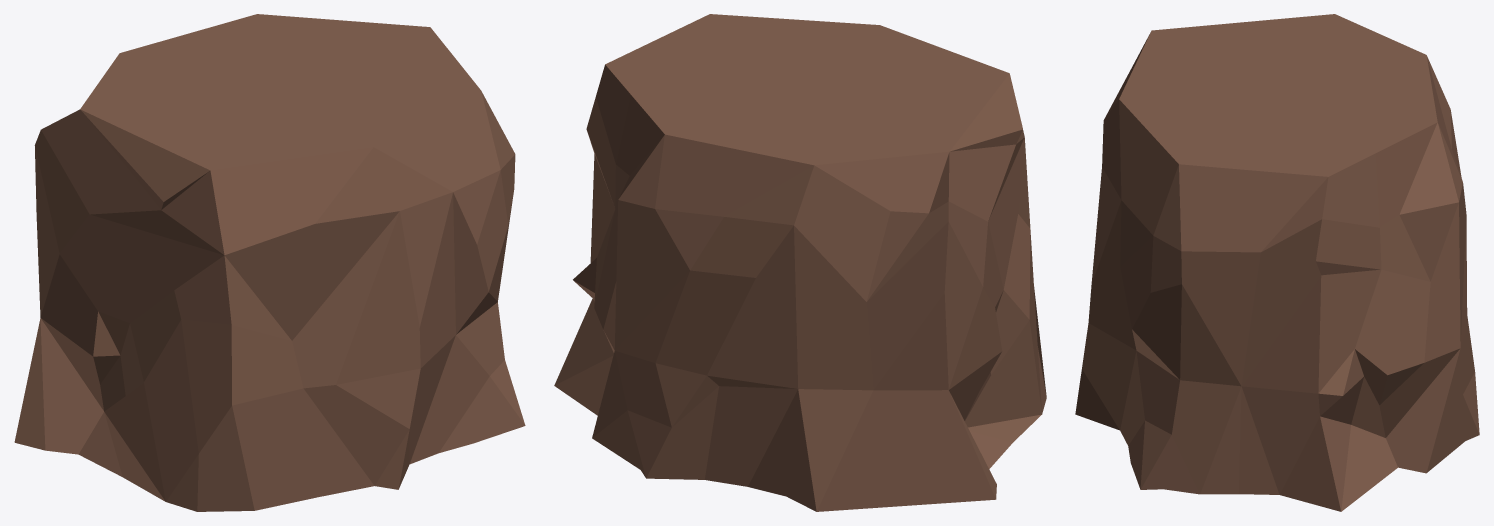
Rendered from Rock.fbx.
3 views of the same model, side by side, from view 1: azimuth 30°, elevation 25°; view 2: azimuth 150°, elevation 25°; view 3: azimuth 270°, elevation 25° (orthographic). The views are drawn at different scales.
Parts seen in each view (by area): view 1: polySurface1; view 2: polySurface1; view 3: polySurface1.
Part boxes in pixels (bbox=[...]): polySurface1: bbox=[14, 14, 525, 511]; polySurface1: bbox=[554, 14, 1046, 511]; polySurface1: bbox=[1075, 14, 1479, 511].
Bounding box in the file's own units: 210 × 147 × 171.
